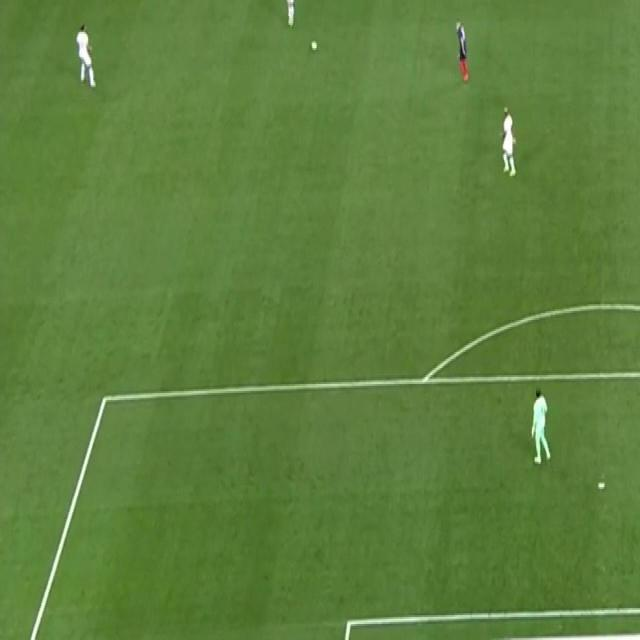ball: (310, 40, 320, 54)
player-white: (530, 388, 552, 468), (75, 23, 97, 90), (498, 105, 518, 175), (454, 20, 470, 86), (280, 0, 298, 26)
